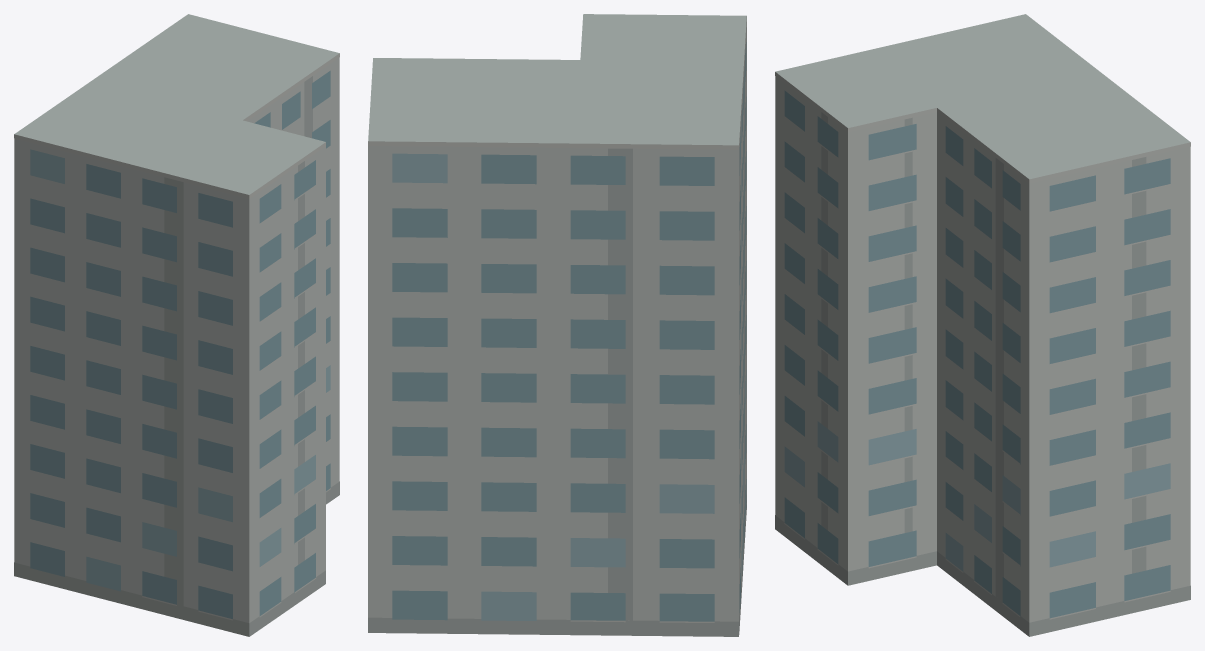
The model's file is residential-bc97f639-767a-476e-9ed2-37617b070747.glb.
The picture shows the model from 3 angles, left to right: view 1: azimuth 30°, elevation 25°; view 2: azimuth 150°, elevation 25°; view 3: azimuth 270°, elevation 25°; orthographic projection. The views are drawn at different scales.
Visible parts, largest first — view 1: residential-bc97f639-767a-476e-9ed2-37617b070747.tmp; view 2: residential-bc97f639-767a-476e-9ed2-37617b070747.tmp; view 3: residential-bc97f639-767a-476e-9ed2-37617b070747.tmp.
Part boxes in pixels (box(x1,y1,x2,y2)): residential-bc97f639-767a-476e-9ed2-37617b070747.tmp: box(14, 14, 339, 636); residential-bc97f639-767a-476e-9ed2-37617b070747.tmp: box(368, 14, 746, 636); residential-bc97f639-767a-476e-9ed2-37617b070747.tmp: box(775, 14, 1190, 636).
Size of the model in its own units: 20.16 by 26 by 21.42.
